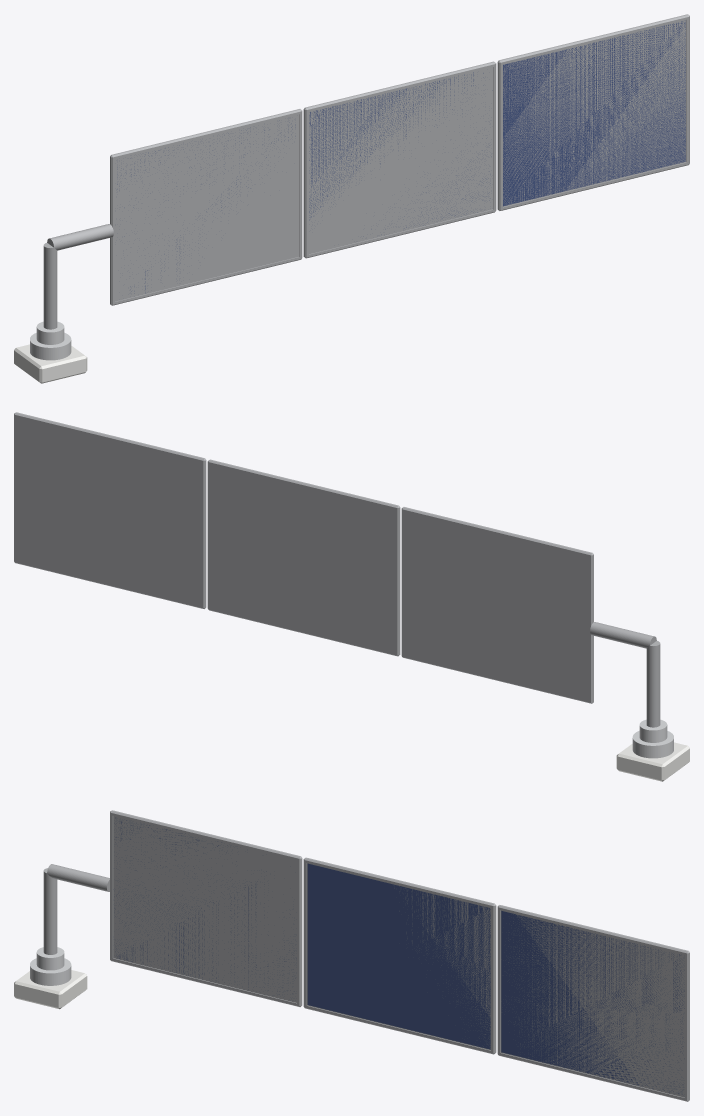
Rendered from ax_power_02_rigid_wing_m_deployed.glb.
3 views of the same model, one above another, from view 1: azimuth 30°, elevation 25°; view 2: azimuth 150°, elevation 25°; view 3: azimuth 330°, elevation 25° (orthographic).
Parts seen in each view (by area): view 1: panel_2, panel_1, panel_3, panel_3_cells, panel_2_cells, yoke, mount_block, gimbal; view 2: panel_2, panel_3, panel_1, yoke, mount_block, gimbal; view 3: panel_1, panel_2_cells, panel_3, panel_3_cells, panel_2, yoke, mount_block, gimbal, panel_1_cells.
Part boxes in pixels (bbox=[...]): panel_2: bbox=[303, 61, 496, 258]; panel_1: bbox=[110, 109, 302, 305]; panel_3: bbox=[497, 14, 689, 210]; panel_3_cells: bbox=[503, 20, 685, 206]; panel_2_cells: bbox=[309, 72, 492, 236]; yoke: bbox=[43, 224, 113, 329]; mount_block: bbox=[14, 344, 87, 383]; gimbal: bbox=[30, 321, 71, 360]; panel_2: bbox=[207, 459, 400, 656]; panel_3: bbox=[14, 412, 206, 608]; panel_1: bbox=[401, 507, 593, 703]; yoke: bbox=[590, 622, 660, 727]; mount_block: bbox=[616, 742, 689, 781]; gimbal: bbox=[632, 719, 673, 758]; panel_1: bbox=[110, 810, 302, 1006]; panel_2_cells: bbox=[307, 863, 490, 1049]; panel_3: bbox=[497, 905, 689, 1101]; panel_3_cells: bbox=[501, 911, 684, 1094]; panel_2: bbox=[303, 857, 496, 1054]; yoke: bbox=[43, 864, 109, 954]; mount_block: bbox=[14, 970, 87, 1009]; gimbal: bbox=[30, 947, 71, 985]; panel_1_cells: bbox=[113, 817, 296, 994].
Size of the model in its own units: 5.54 by 1.59 by 0.4.
